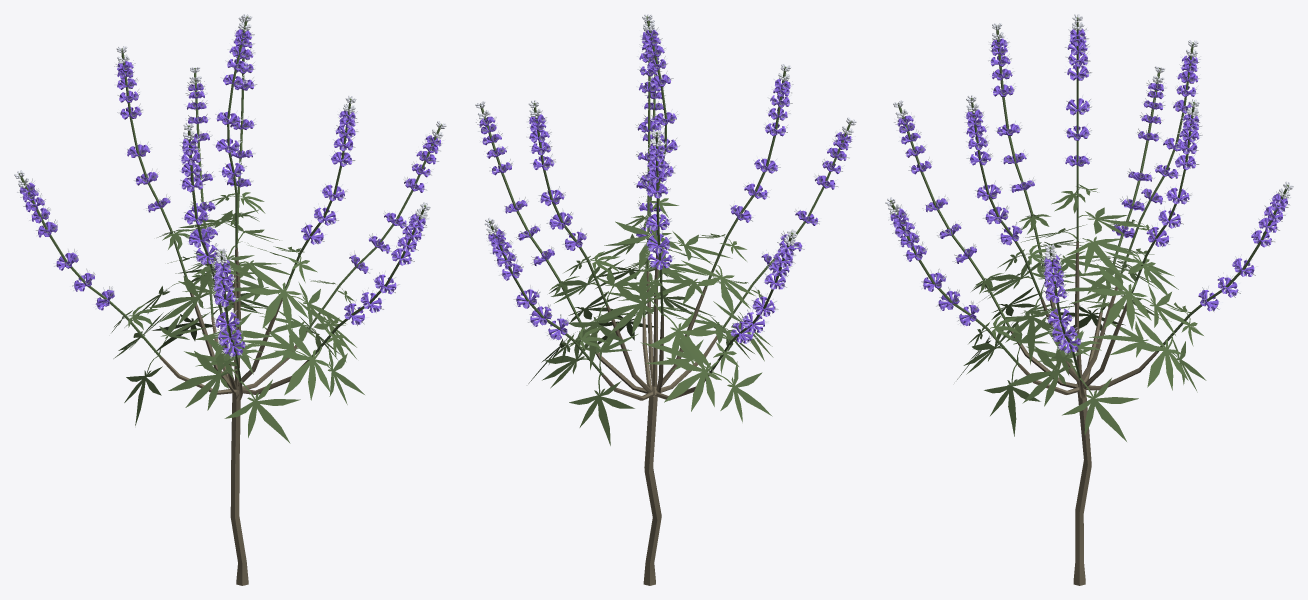
Rendered from Vitex_agnus_castus.fbx.
3 views of the same model, side by side, from view 1: azimuth 30°, elevation 25°; view 2: azimuth 150°, elevation 25°; view 3: azimuth 270°, elevation 25° (orthographic).
Visible parts, largest first — view 1: group15_group1_pCylinder1; view 2: group15_group1_pCylinder1; view 3: group15_group1_pCylinder1.
Boxes of the visible parts, <box> form: group15_group1_pCylinder1: <box>14,14,446,585</box>; group15_group1_pCylinder1: <box>475,14,856,585</box>; group15_group1_pCylinder1: <box>885,14,1293,585</box>.
Size of the model in its own units: 21.93 by 31.61 by 20.55.
